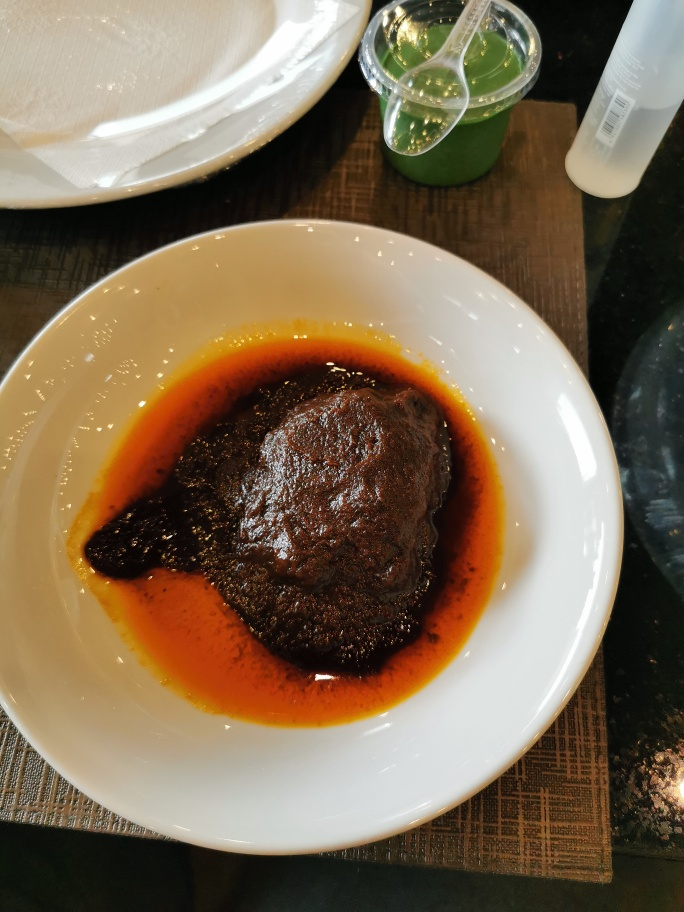rendang: (104, 330, 461, 685)
